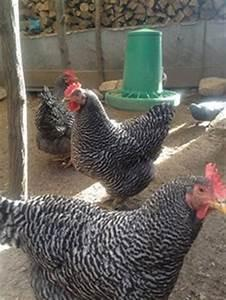hen: (0, 164, 225, 299), (59, 77, 176, 208)
